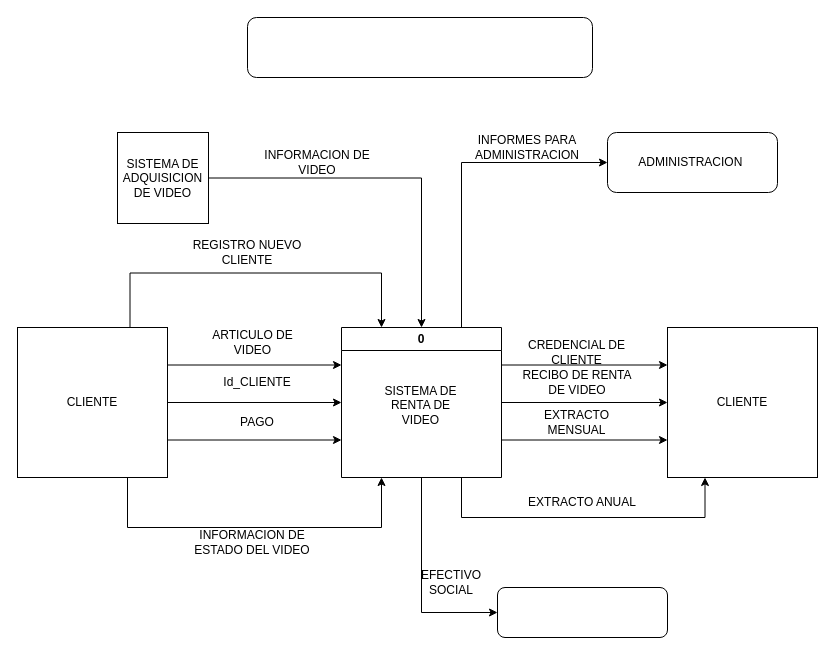
The diagram is 835 pixels wide and 655 high, and some of its shapes have lost their labels. Each missing label, with the centre of its shape:
"CONTABILIDAD" goes at (x=582, y=612).
"NIVEL 0 DIGRAMA DE CONTEXTO SISTEMA DE RENTA DE VIDEOS" goes at (x=419, y=47).
